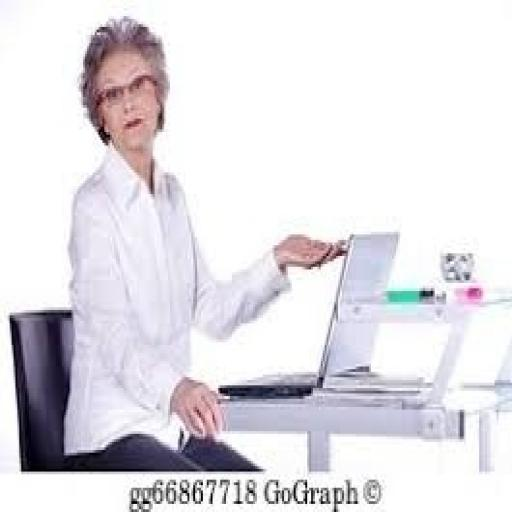using_laptop: (214, 226, 400, 399)
